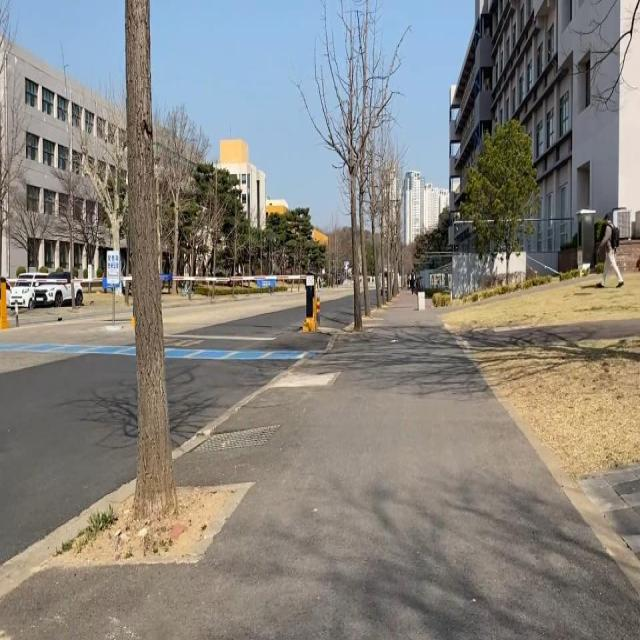sidewalk: (0, 288, 640, 640)
